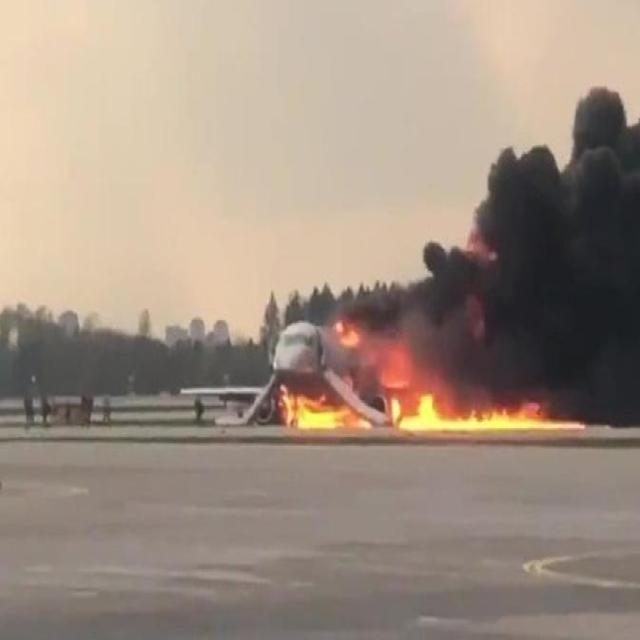Fire: (399, 394, 585, 437), (294, 406, 338, 430)
Smoke: (365, 78, 639, 388)
